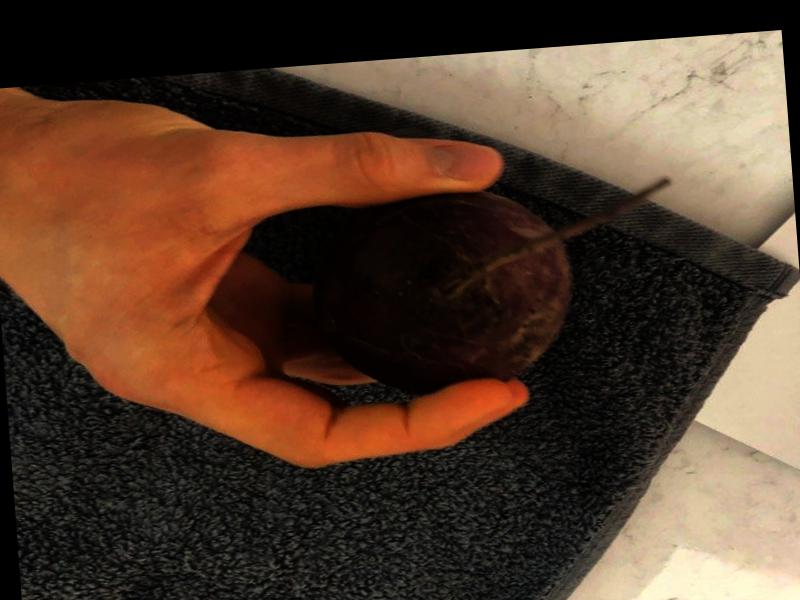Beet: (308, 175, 686, 401)
